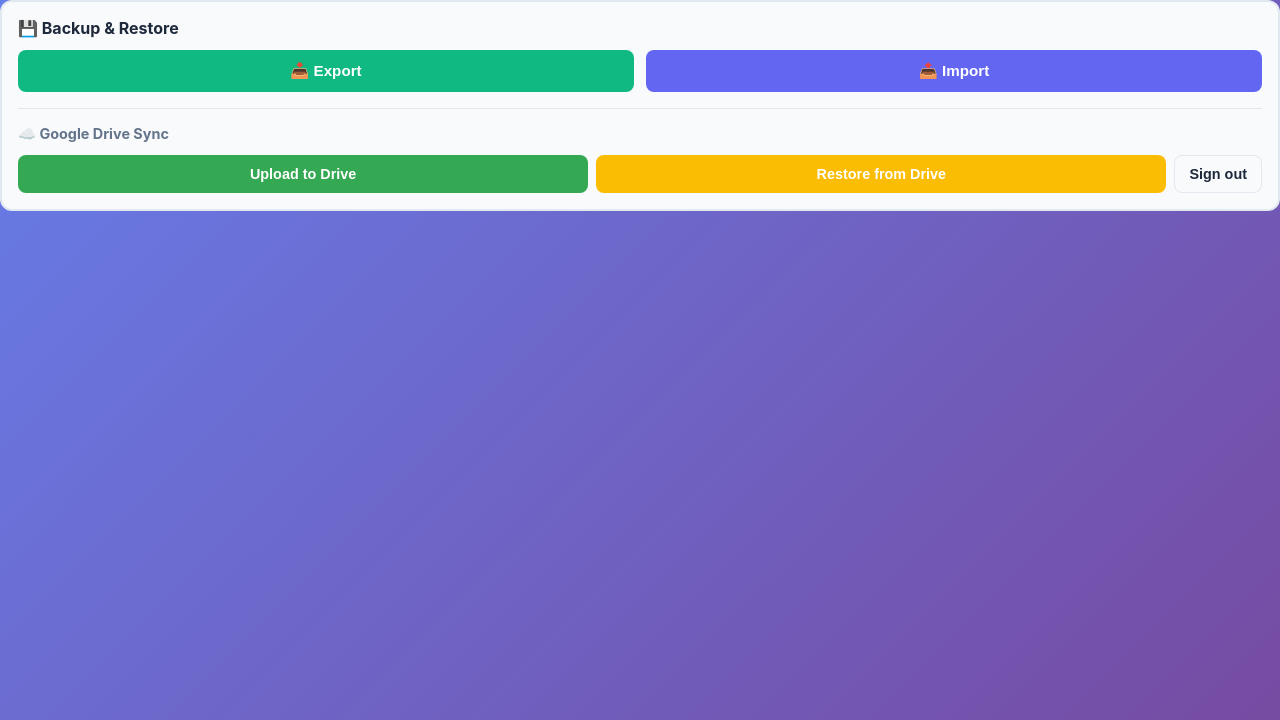
Test: BackupRestore component › Google Drive 기능 › 로그인 후 업로드 실패 시 에러 메시지를 표시한다
This screenshot has width=1280, height=720.
// 업로드 버튼 클릭
Click the button "Upload to Drive".
click(303, 174)  # box x1=18 y1=155 x2=588 y2=193
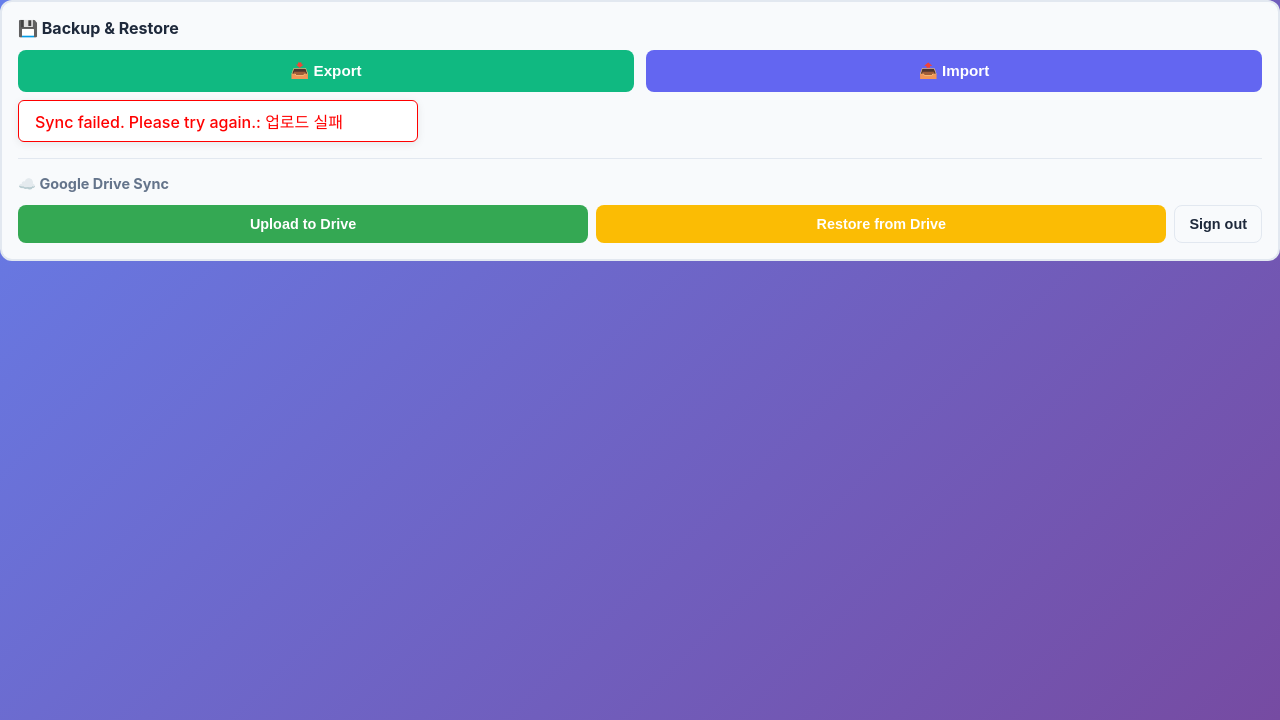
Check: the message reads "Sync failed. Please try again.: 업로드 실패", box x1=35 y1=112 x2=343 y2=132
